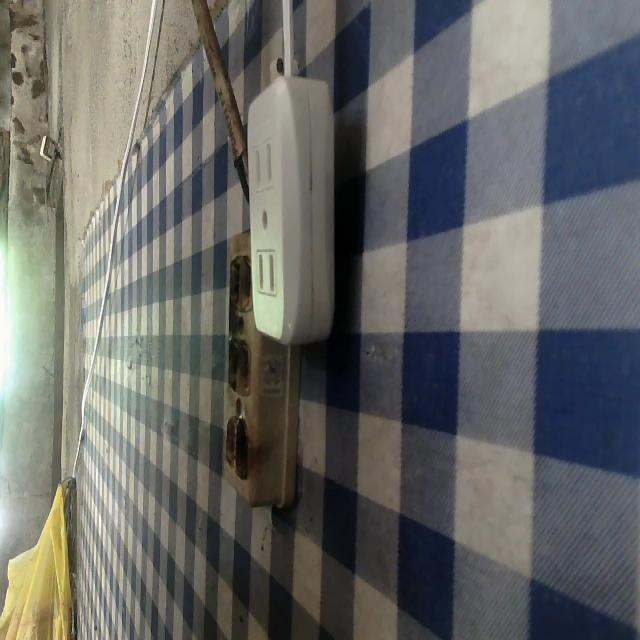-: (218, 329, 260, 399), (220, 411, 259, 480), (222, 248, 255, 311)
